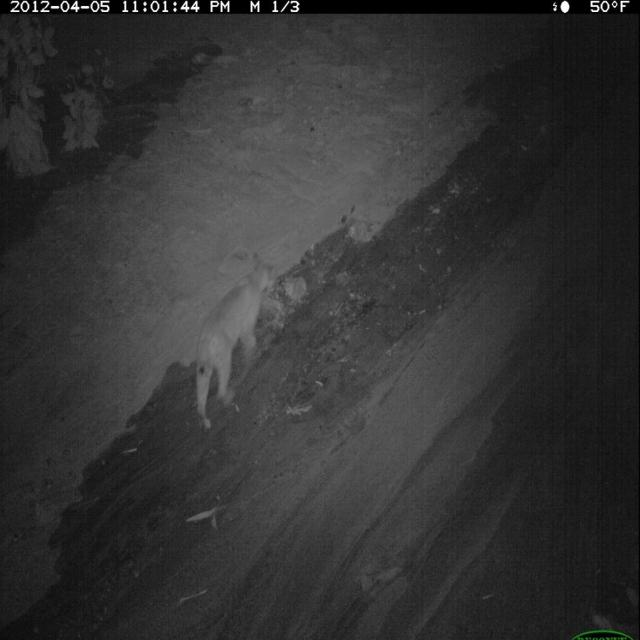bobcat: (192, 247, 283, 437)
